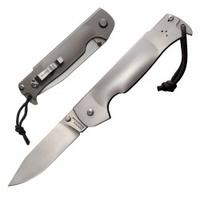knife: (5, 12, 187, 190)
